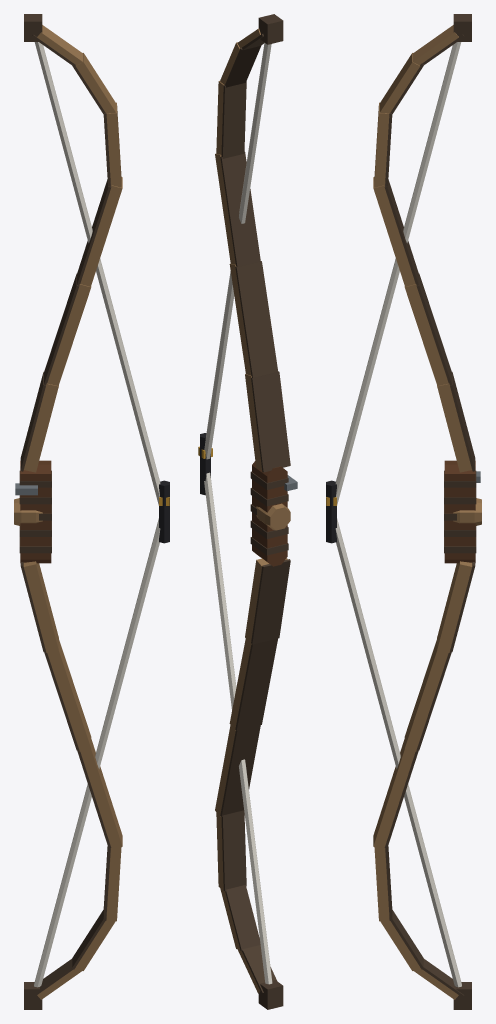
Rendered from bow.glb.
The picture shows the model from 3 angles, left to right: view 1: azimuth 90°, elevation 25°; view 2: azimuth 210°, elevation 25°; view 3: azimuth 270°, elevation 25°; orthographic projection.
Visible parts, largest first — view 1: bow; view 2: bow; view 3: bow.
Part boxes in pixels (x1=…): bow: x1=14, y1=14, x2=169, y2=1009; bow: x1=198, y1=14, x2=297, y2=1009; bow: x1=326, y1=14, x2=481, y2=1009.
Bounding box in the file's own units: 0.0403 × 1.2 × 0.1721.
Materials: 2 (2 with a texture image).
